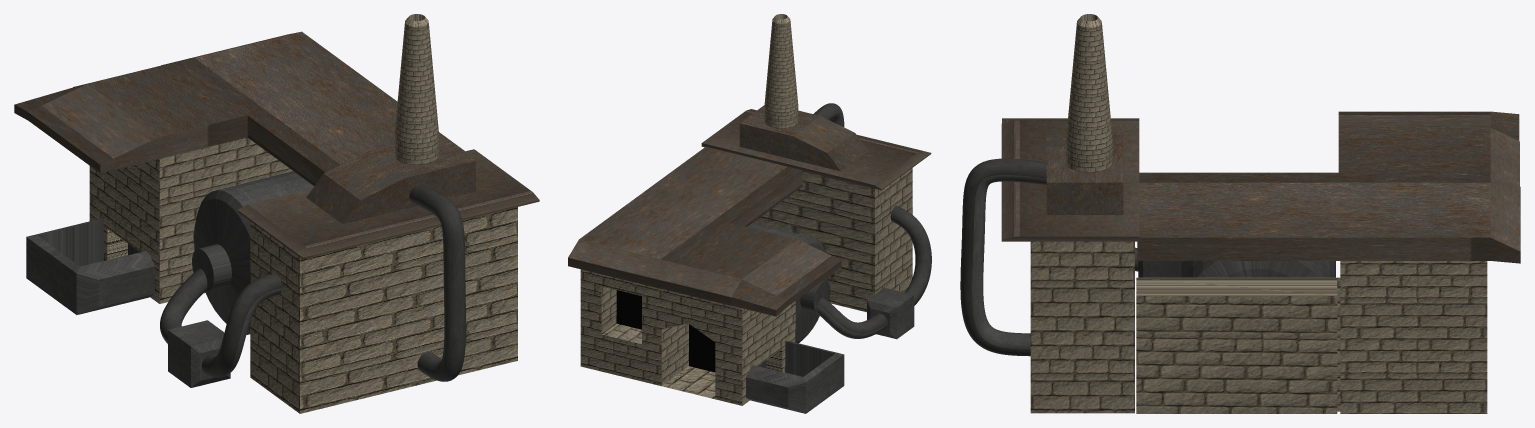
Rendered from small_generator.glb.
3 renders of one model, left to right at view 1: azimuth 30°, elevation 25°; view 2: azimuth 150°, elevation 25°; view 3: azimuth 270°, elevation 25°, orthographic. The views are drawn at different scales.
Visible parts, largest first — view 1: Cube.001, Cube.003, Cube, Cube.004, Cube.006, Cube.005, Cylinder, Cylinder.001, NurbsPath.003, NurbsPath.002, Cube.002, NurbsPath; view 2: Cube.003, Cube, Cube.001, Cube.006, Cube.005, Cube.004, Cylinder.001, Cylinder, Cube.002, NurbsPath.002, NurbsPath, NurbsPath.003; view 3: Cube, Cube.003, Cube.001, Cube.004, NurbsPath.003, Cylinder.001, Cube.005, Cylinder, Cube.002.
Part boxes in pixels (x1,y1,x2,y2): Cube.001: (250,207,517,413); Cube.003: (14,31,464,186); Cube: (89,137,292,303); Cube.004: (237,149,539,259); Cube.006: (26,219,154,314); Cube.005: (306,134,475,224); Cylinder: (192,171,313,334); Cylinder.001: (394,14,438,164); NurbsPath.003: (409,184,465,381); NurbsPath.002: (201,273,282,377); Cube.002: (168,320,230,387); NurbsPath: (160,268,207,343); Cube.003: (568,147,841,316); Cube: (580,269,795,405); Cube.001: (754,168,912,312); Cube.006: (746,341,844,413); Cube.005: (739,105,868,171); Cube.004: (701,109,931,190); Cylinder.001: (764,14,798,128); Cylinder: (747,222,830,343); Cube.002: (867,287,914,339); NurbsPath.002: (890,206,931,305); NurbsPath: (817,297,887,338); NurbsPath.003: (813,103,844,126); Cube: (1136,261,1487,413); Cube.003: (1137,111,1520,263); Cube.001: (1030,241,1134,413); Cube.004: (1001,118,1139,241); NurbsPath.003: (960,158,1046,356); Cylinder.001: (1066,14,1112,172); Cube.005: (1046,135,1123,214); Cylinder: (1179,261,1335,277); Cube.002: (1138,261,1179,277).
Bounding box in the file's own units: 1.99 × 2.25 × 3.15.
Materials: 13 (12 with a texture image).
